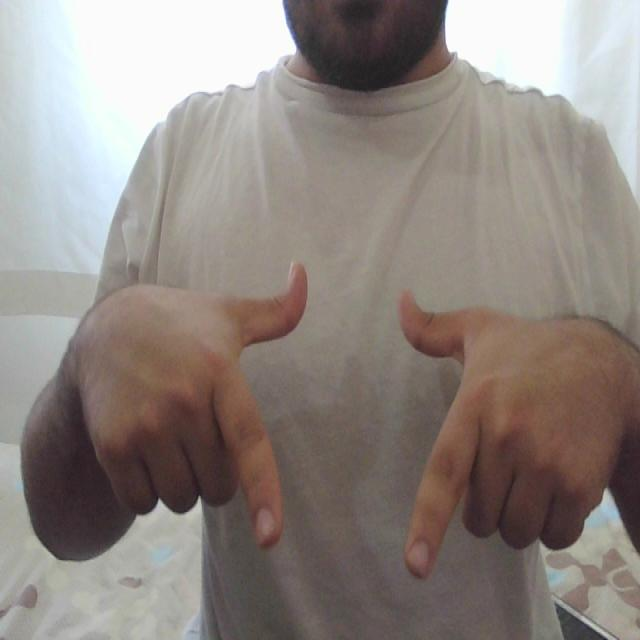Nerede: (208, 255, 490, 589)
